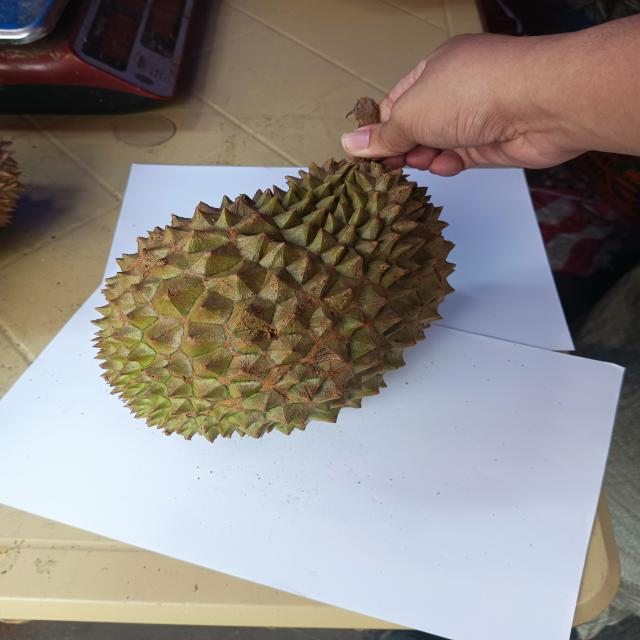mature: (89, 152, 458, 440)
